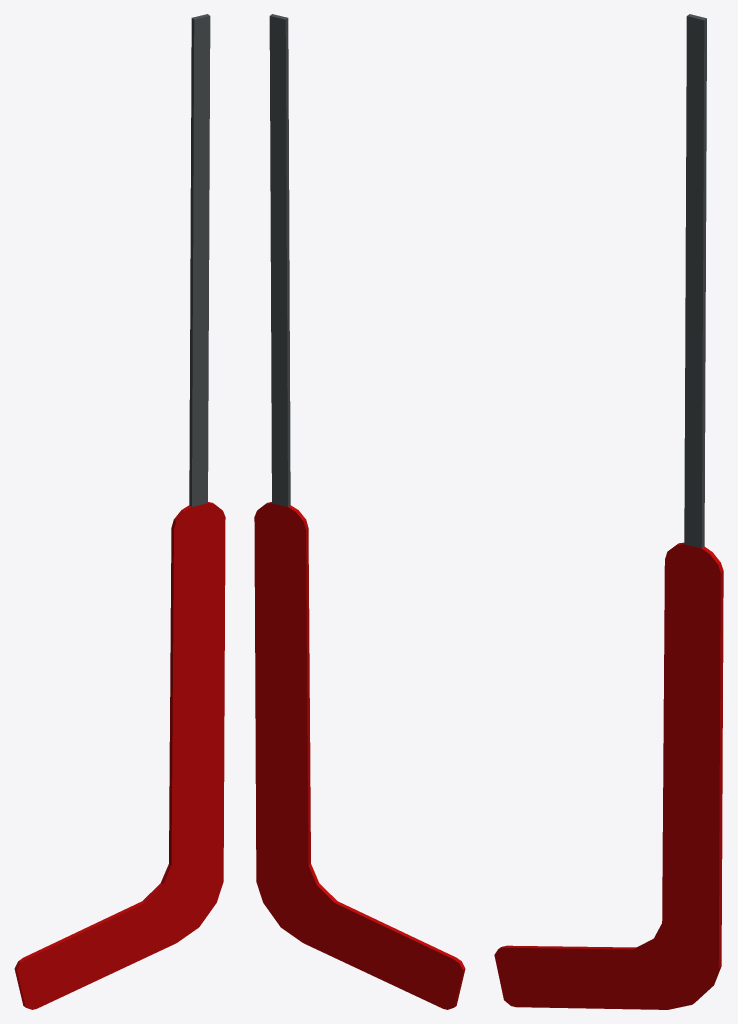
File: Ice_hockey_blocker_red.fbx
3 views of the same model, side by side, from view 1: azimuth 30°, elevation 25°; view 2: azimuth 150°, elevation 25°; view 3: azimuth 330°, elevation 25° (orthographic). The views are drawn at different scales.
Parts seen in each view (by area): view 1: Ice_hockey_blocker_red; view 2: Ice_hockey_blocker_red; view 3: Ice_hockey_blocker_red.
Boxes of the visible parts, x1,y1,x2,y2 form: Ice_hockey_blocker_red: (14, 14, 225, 1009); Ice_hockey_blocker_red: (254, 14, 465, 1009); Ice_hockey_blocker_red: (494, 14, 723, 1009).
Bounding box in the file's own units: 45.15 × 197 × 0.9791.
